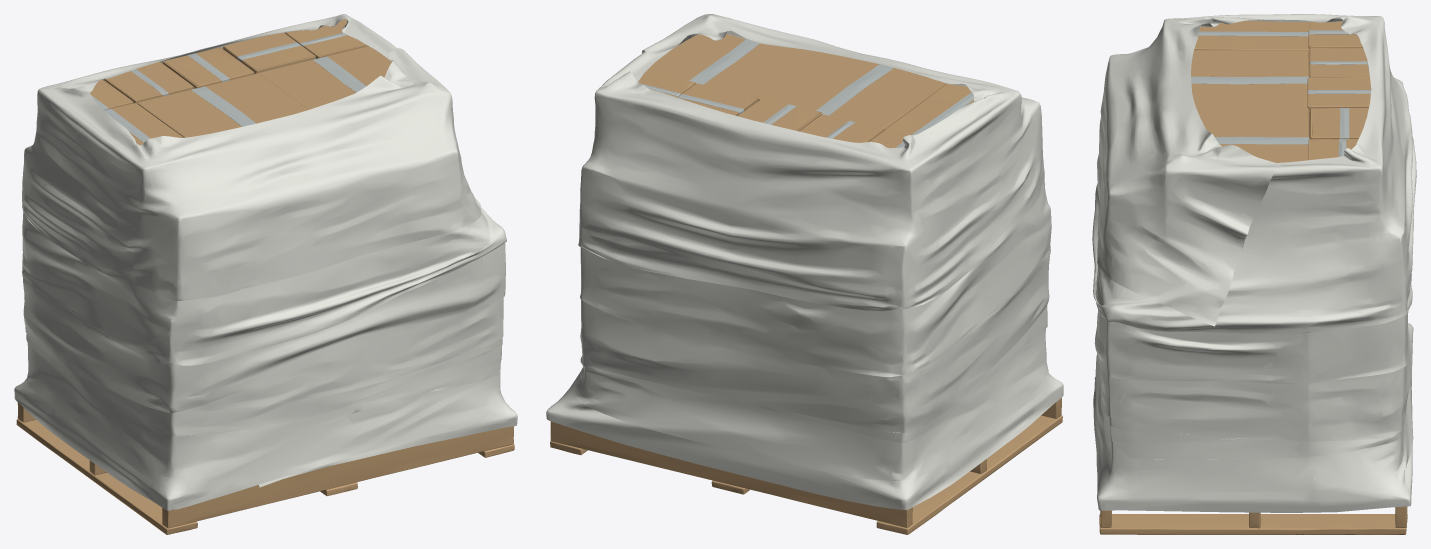
The model's file is pallet_assembly_transparent_a06.glb.
The picture shows the model from 3 angles, left to right: view 1: azimuth 30°, elevation 25°; view 2: azimuth 150°, elevation 25°; view 3: azimuth 270°, elevation 25°; orthographic projection. The views are drawn at different scales.
Bounding box in the file's own units: 1.22 × 1.15 × 0.9341.
